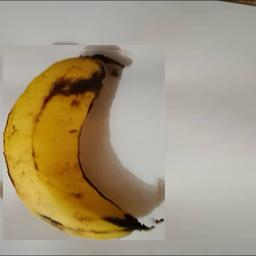Banana Semifresh: (3, 45, 165, 240)
